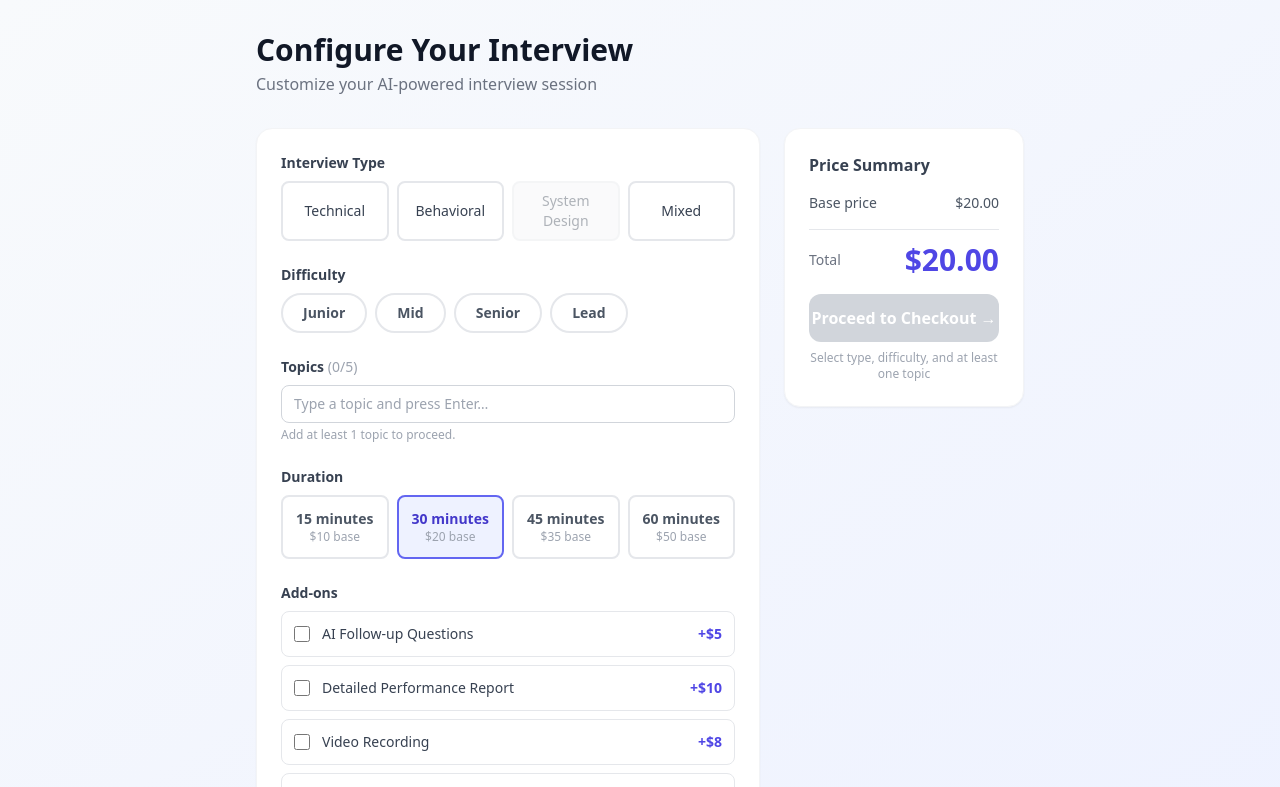
Scenario: Dependency Rule 1: System Design disabled for Junior/Mid › enables System Design button when Lead difficulty is selected
Click the button "Lead". click: (589, 313)
box: left=550, top=293, right=628, bottom=333
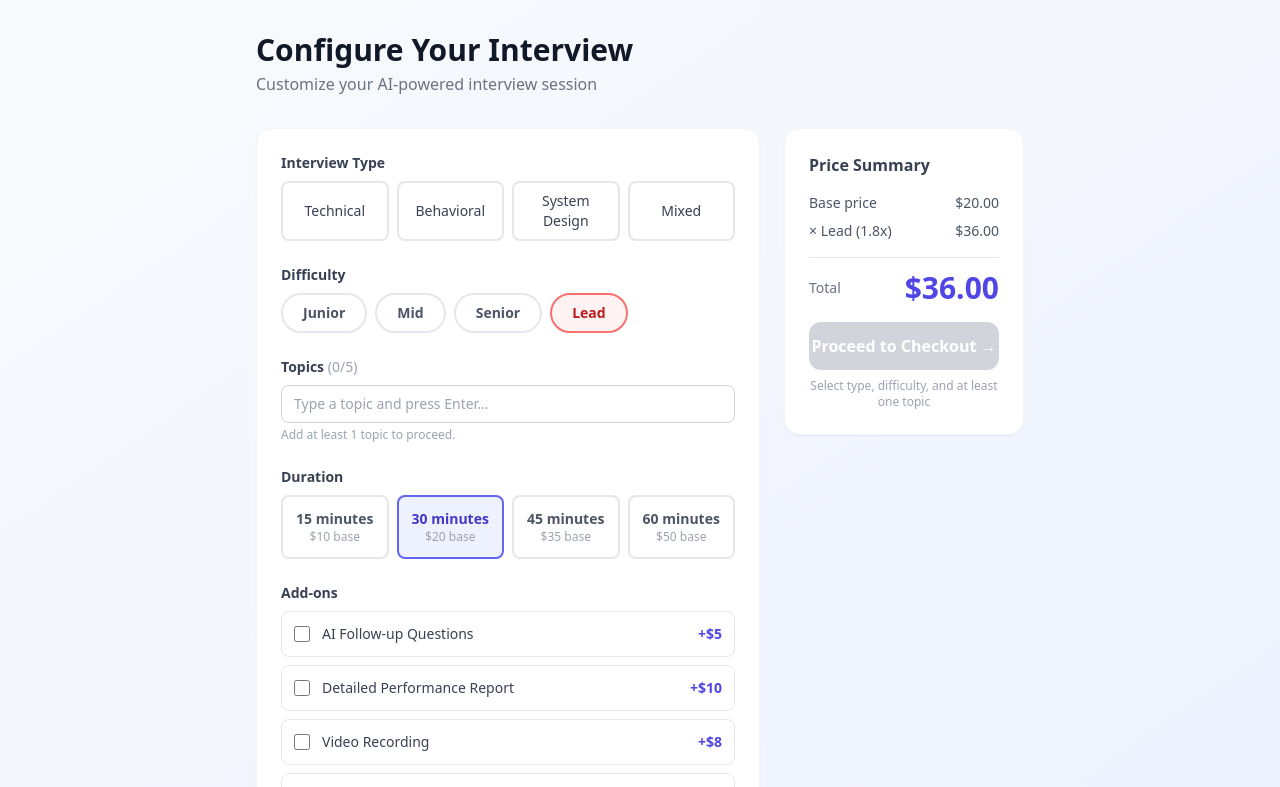
Check: the button "System Design" is enabled, box left=512, top=181, right=620, bottom=241
